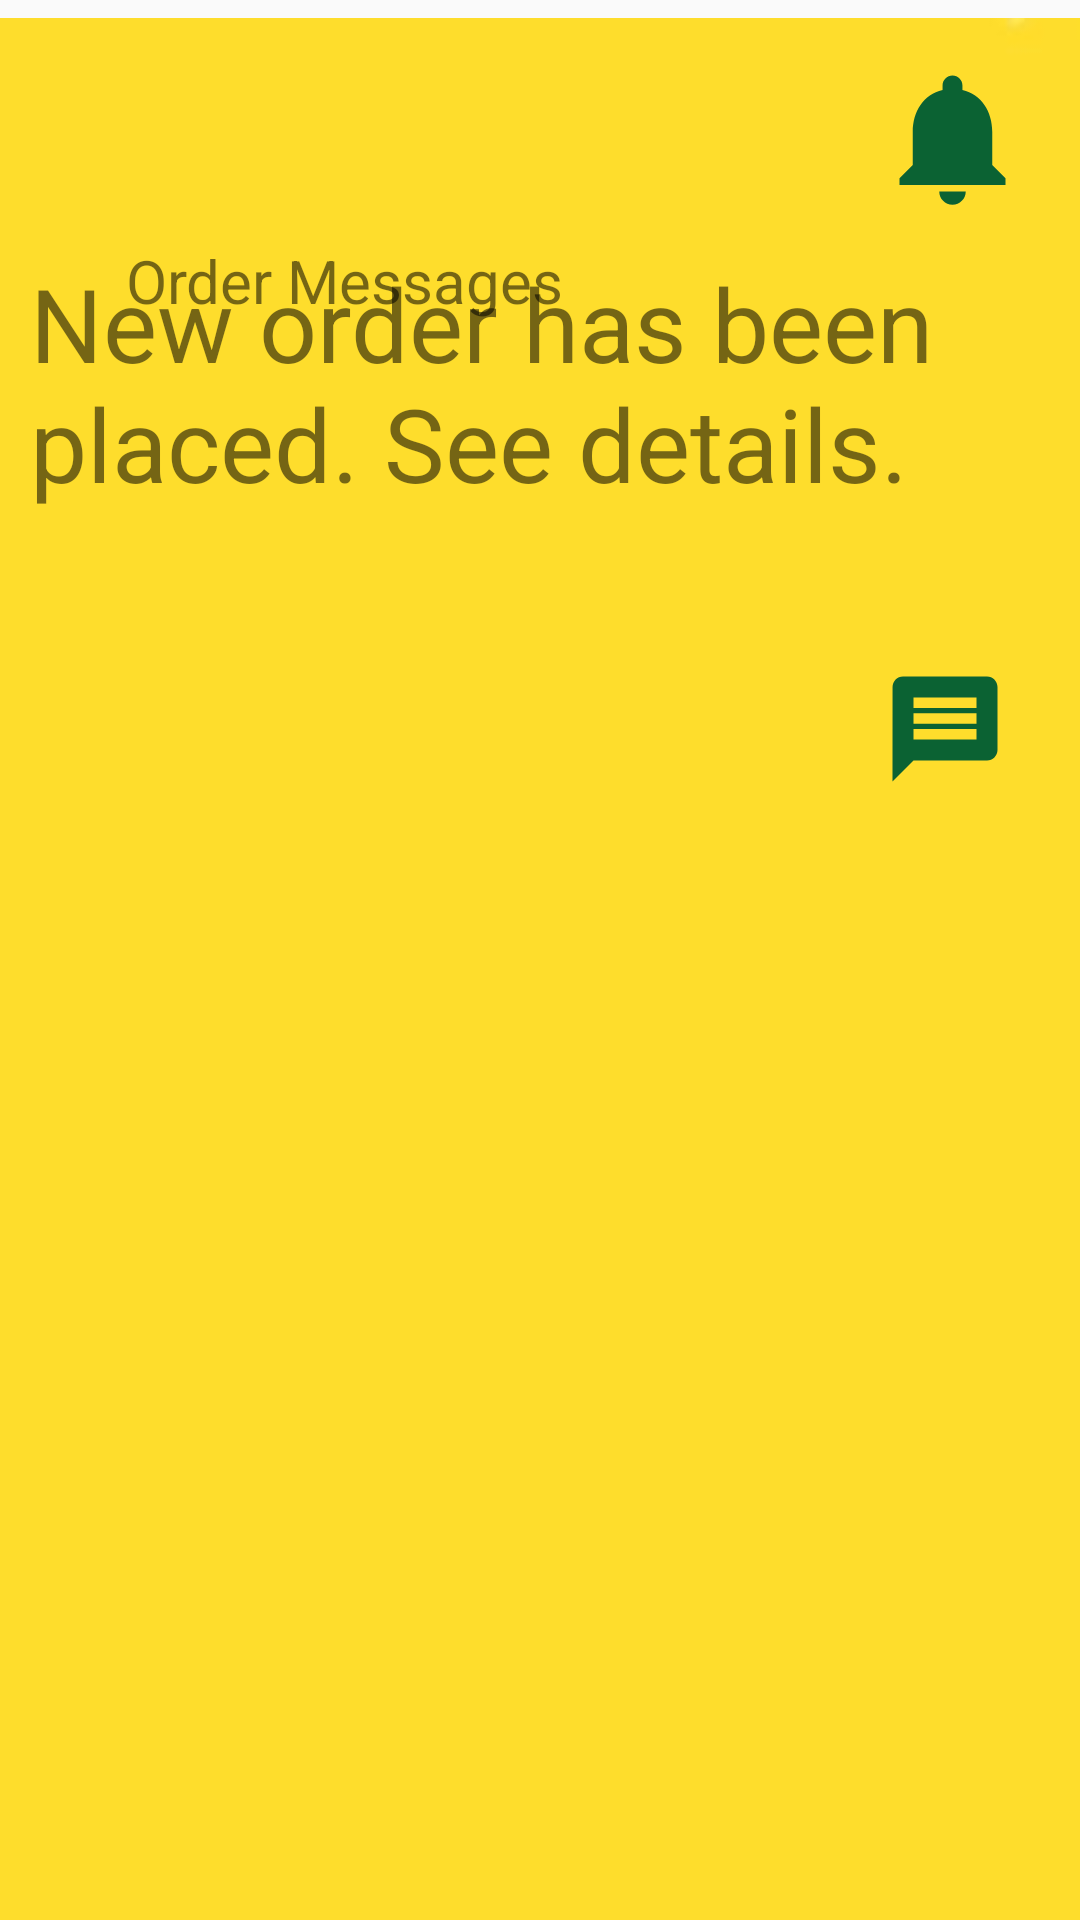

Where to tap for icons on this 1080*1920 app screen, as (x=x, y=y):
message: (x=945, y=729)
notifications: (x=952, y=140)
